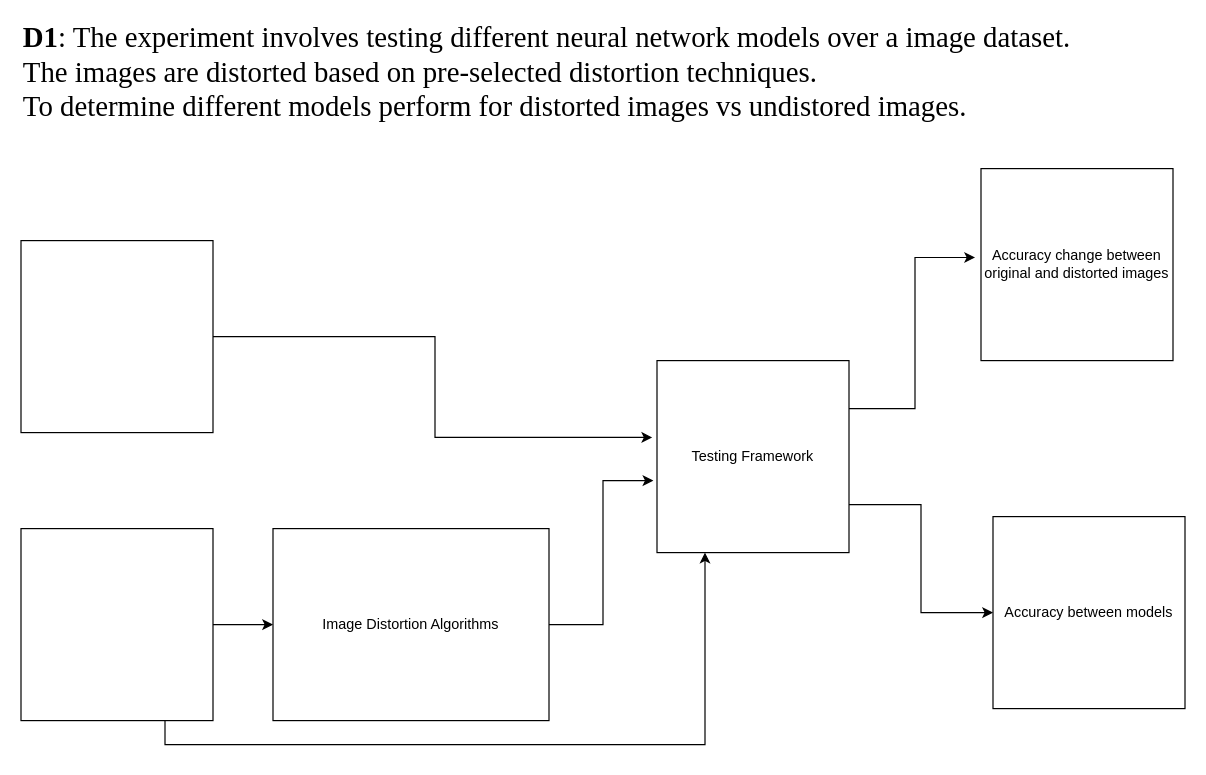
Image size: 1206x775. Some labels were removed from this diagram. The centre of each missing label's shape, as x and y in pixels:
Image Dataset: (116,624)
Models: (116,336)
